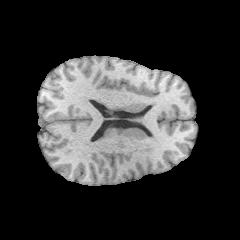glioma: (100, 102, 156, 148)
